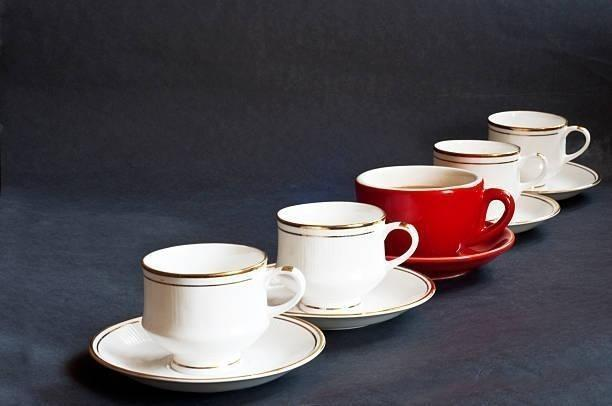cup-handle: (139, 240, 306, 369), (275, 199, 419, 310), (354, 163, 516, 257), (431, 137, 551, 225), (486, 108, 591, 189)
